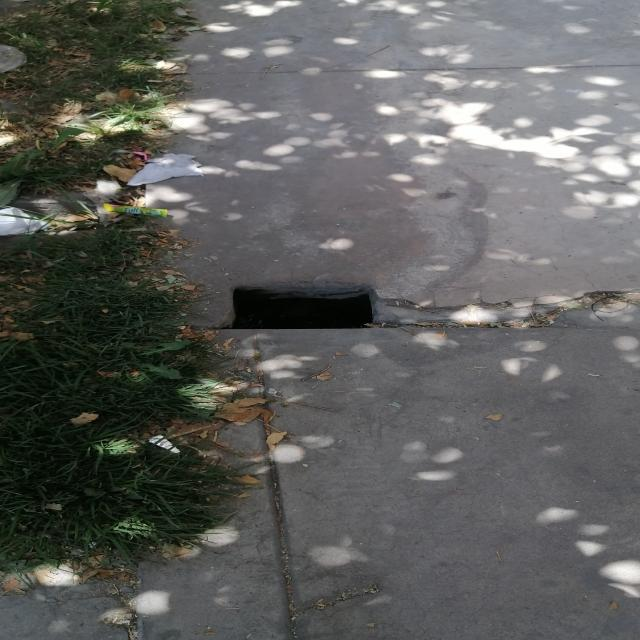hole: (222, 279, 385, 338)
